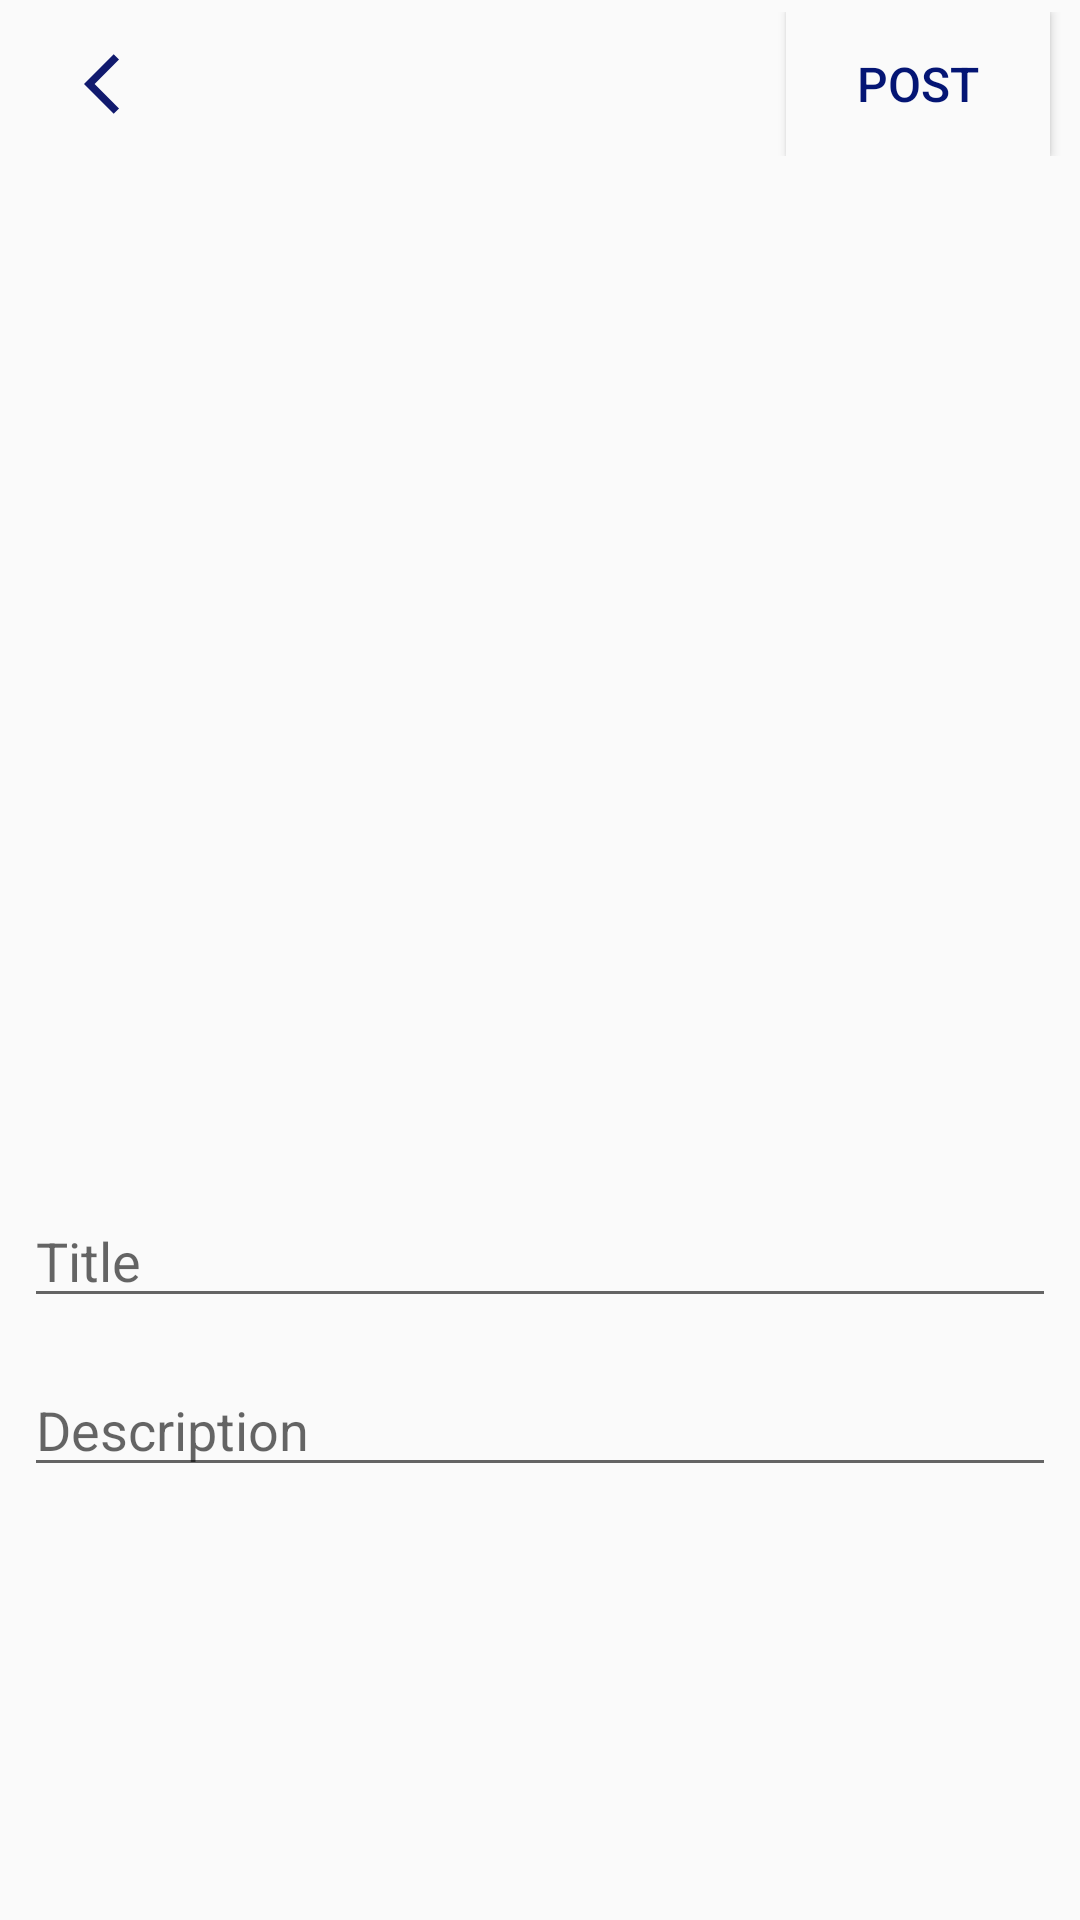

Named icons in this screenshot (1080px×1920px) and their bounding boxes, (x1, y1, x2, y2):
back: (84, 54, 119, 114)
